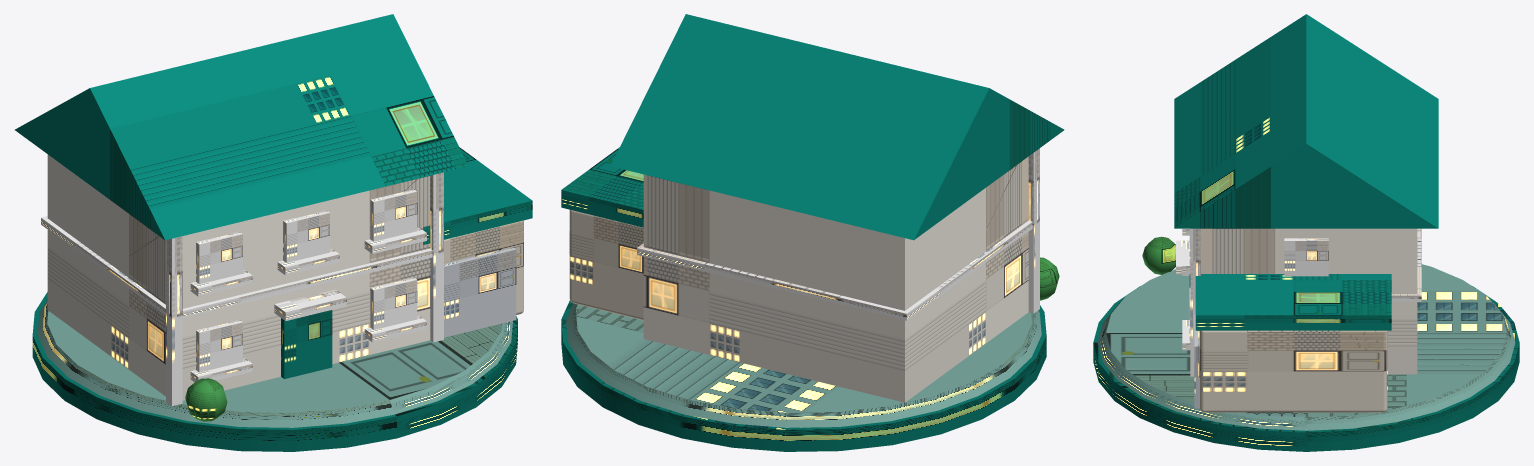
File: tier-07-big-house.glb
3 views of the same model, side by side, from view 1: azimuth 30°, elevation 25°; view 2: azimuth 150°, elevation 25°; view 3: azimuth 270°, elevation 25° (orthographic). The views are drawn at different scales.
Parts seen in each view (by area): view 1: toon; view 2: toon; view 3: toon.
Boxes of the visible parts, left/top/right/bottom form: toon: left=15, top=14, right=532, bottom=451; toon: left=561, top=14, right=1064, bottom=451; toon: left=1093, top=14, right=1519, bottom=451.
Size of the model in its own units: 1 by 0.695 by 1.
1 material, 1 textured.
